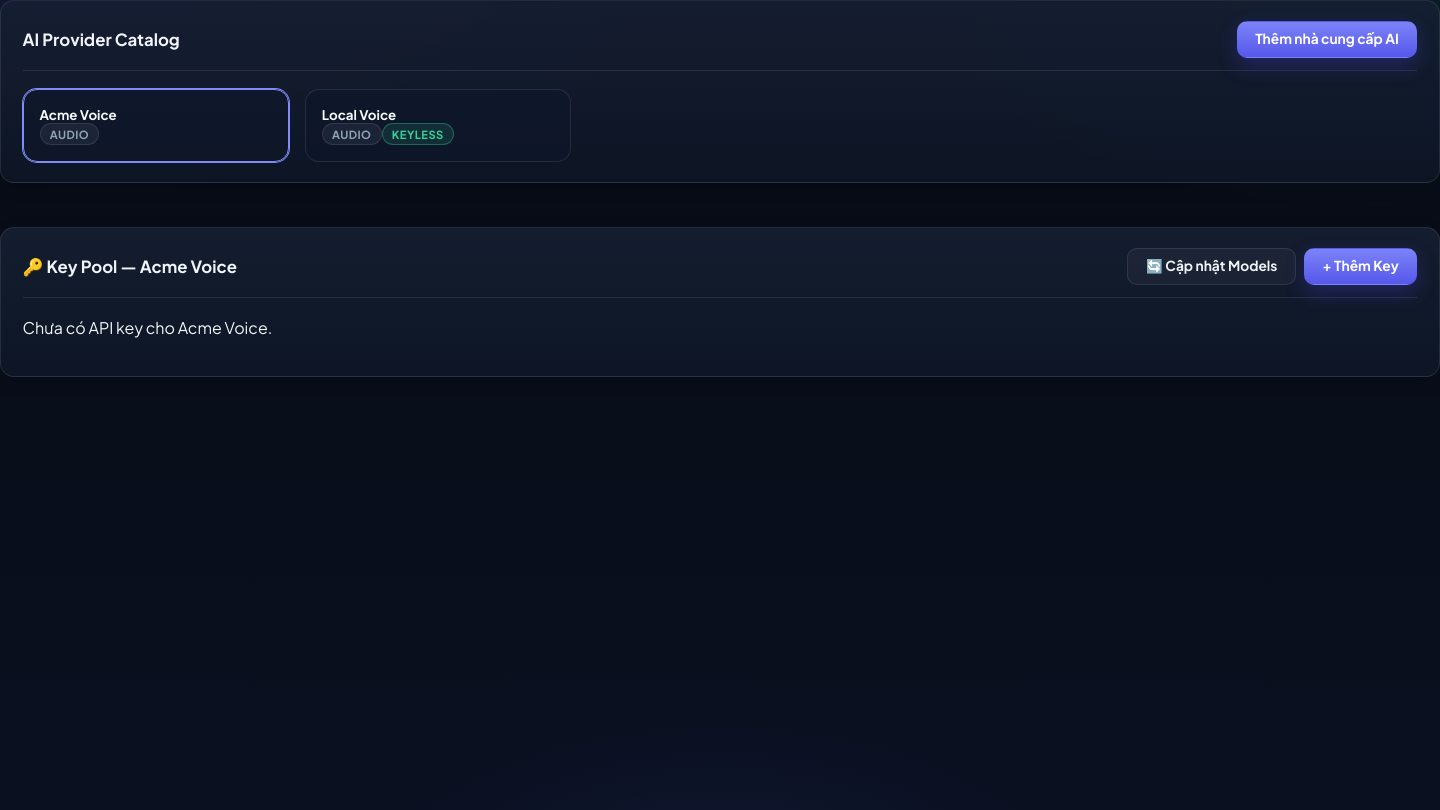
Test: adds a key, clears plaintext on incomplete discovery, and reports it remains disabled
expect the button "Acme Voice audio" is shown: met, box [23,89,289,162]
Step 1. Click the button "+ Thêm Key" → [1361, 266], box [1304,248,1417,285]
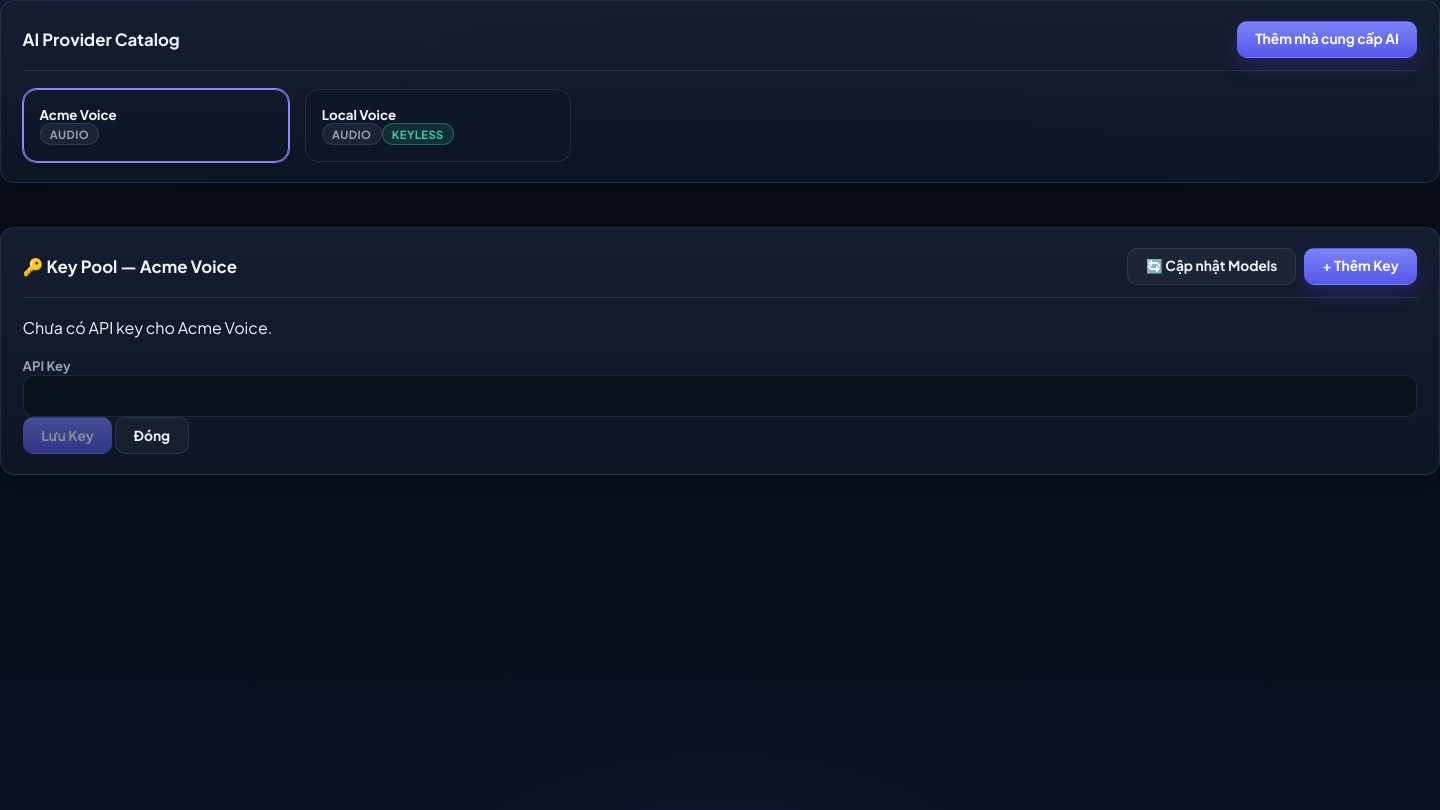
Step 2. Type "synthetic-secret-private" into the password field labelled "API Key" → [720, 396], box [23,375,1417,417]
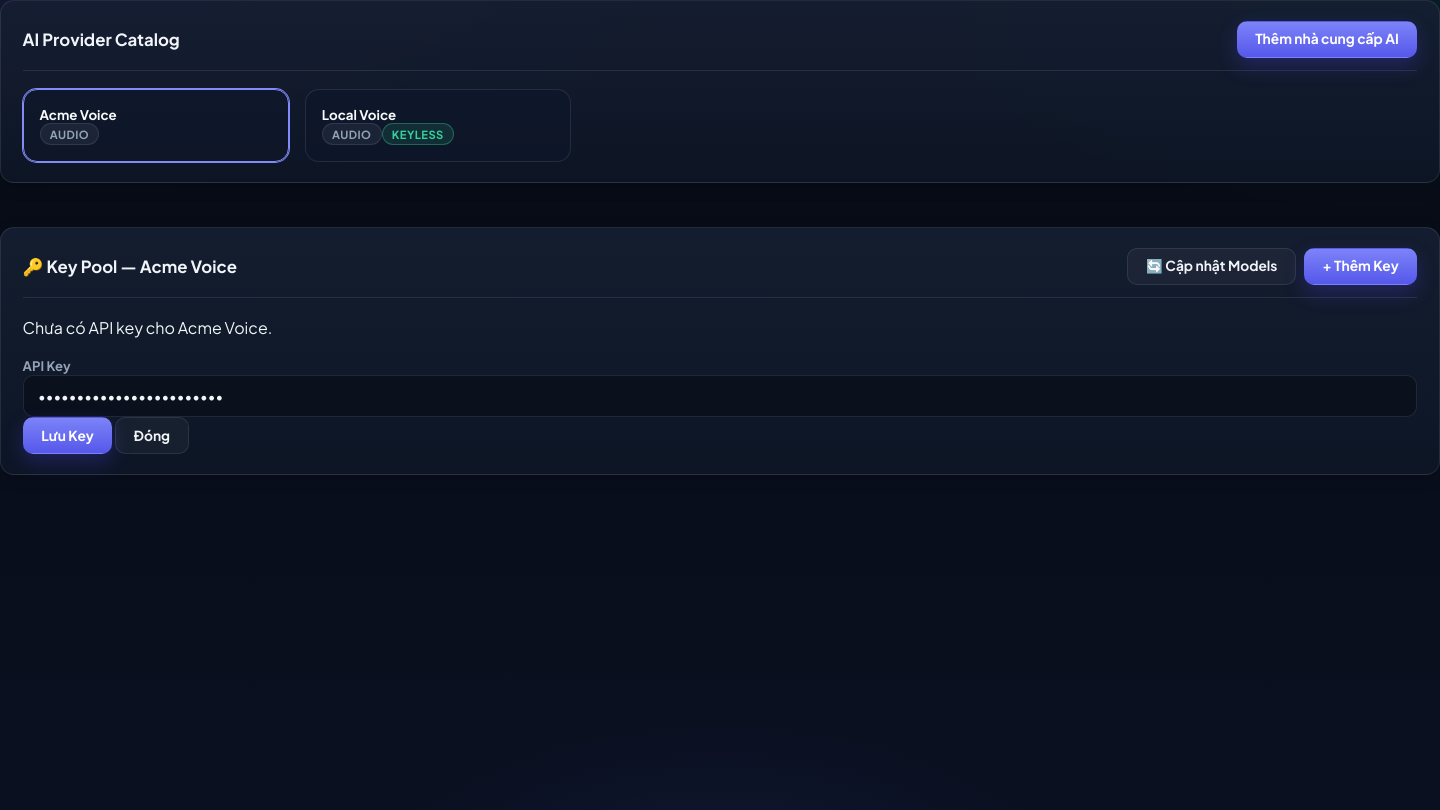
Step 3. Click the button "Lưu Key" → [68, 436], box [23,417,112,454]
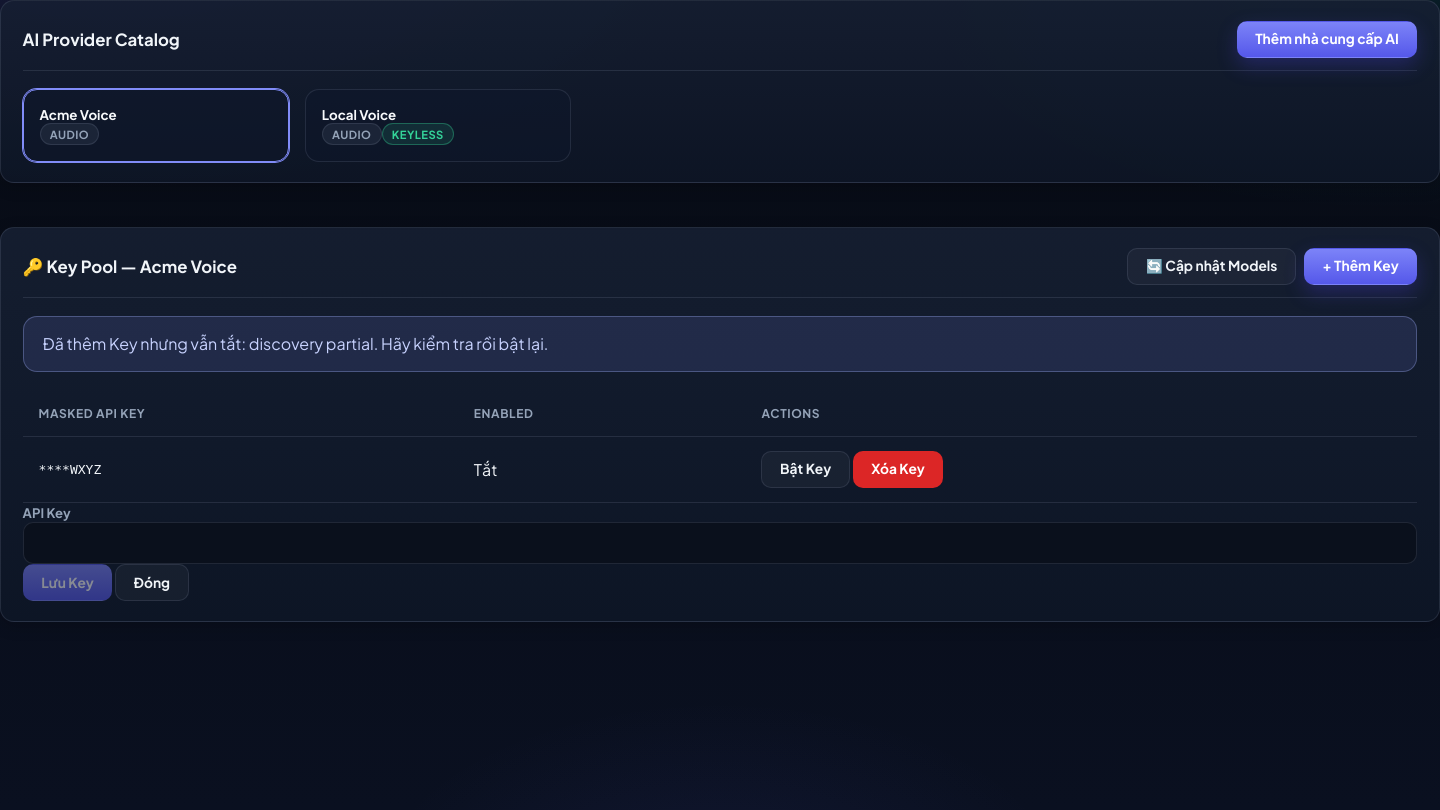
expect the password field labelled "API Key" is empty: met, box [23,522,1417,564]
expect the text "Đã thêm Key nhưng vẫn tắt: discovery partial. Hãy kiểm tra rồi bật lại." is shown: met, box [23,316,1417,372]
expect the text "****WXYZ" is shown: met, box [23,437,458,502]
